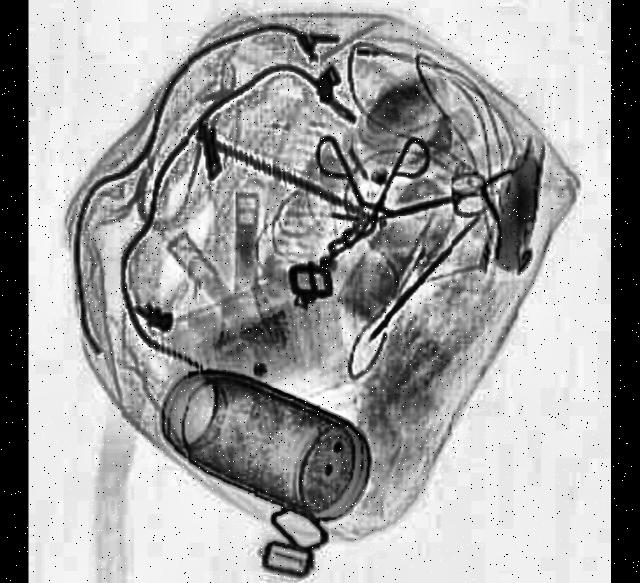Scissors: (384, 170, 493, 235)
